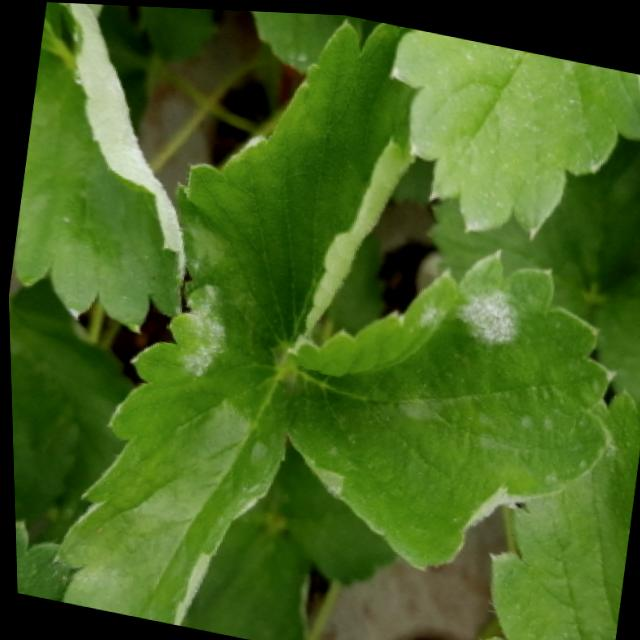Powdery Mildew Leaf: (277, 242, 619, 569), (169, 14, 419, 362), (44, 304, 285, 625), (13, 2, 183, 334), (474, 380, 640, 640)
